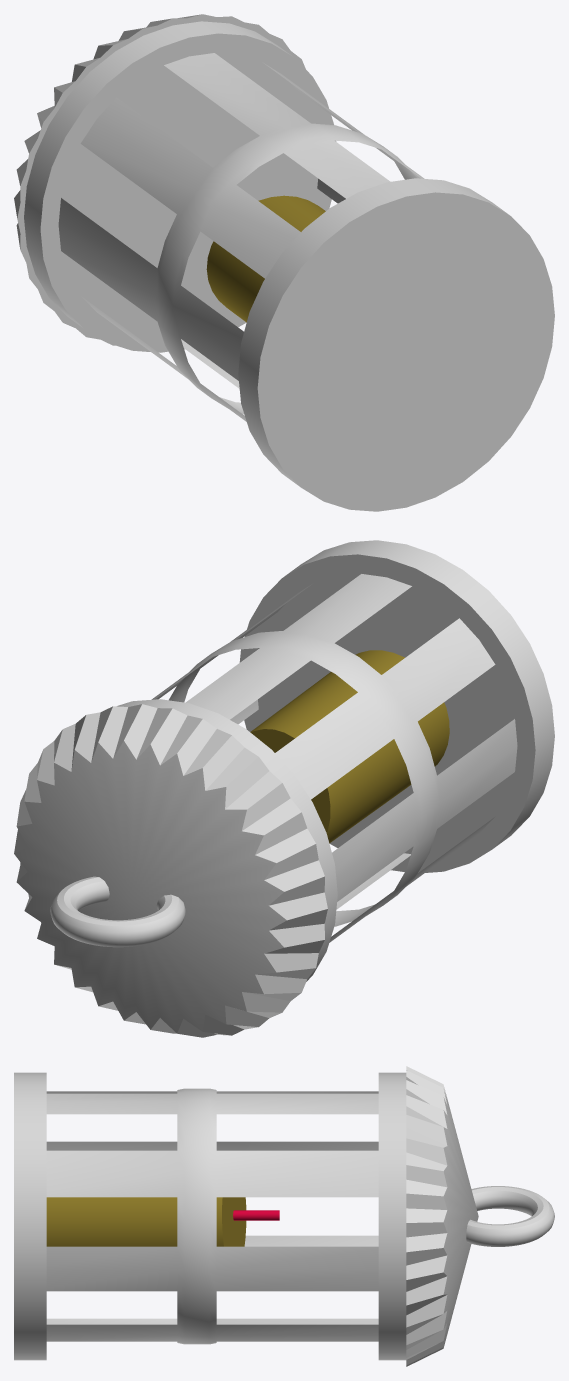
File: Lantern.fbx
The picture shows the model from 3 angles, top to bottom: view 1: azimuth 30°, elevation 25°; view 2: azimuth 150°, elevation 25°; view 3: azimuth 270°, elevation 25°; orthographic projection. The views are drawn at different scales.
Visible parts, largest first — view 1: Cylinder.002; view 2: Cylinder.002; view 3: Cylinder.002.
Boxes of the visible parts, bbox=[...] form: Cylinder.002: bbox=[14, 14, 554, 511]; Cylinder.002: bbox=[14, 540, 554, 1037]; Cylinder.002: bbox=[14, 1066, 554, 1366].
Size of the model in its own units: 0.2089 by 0.2089 by 0.3752.
